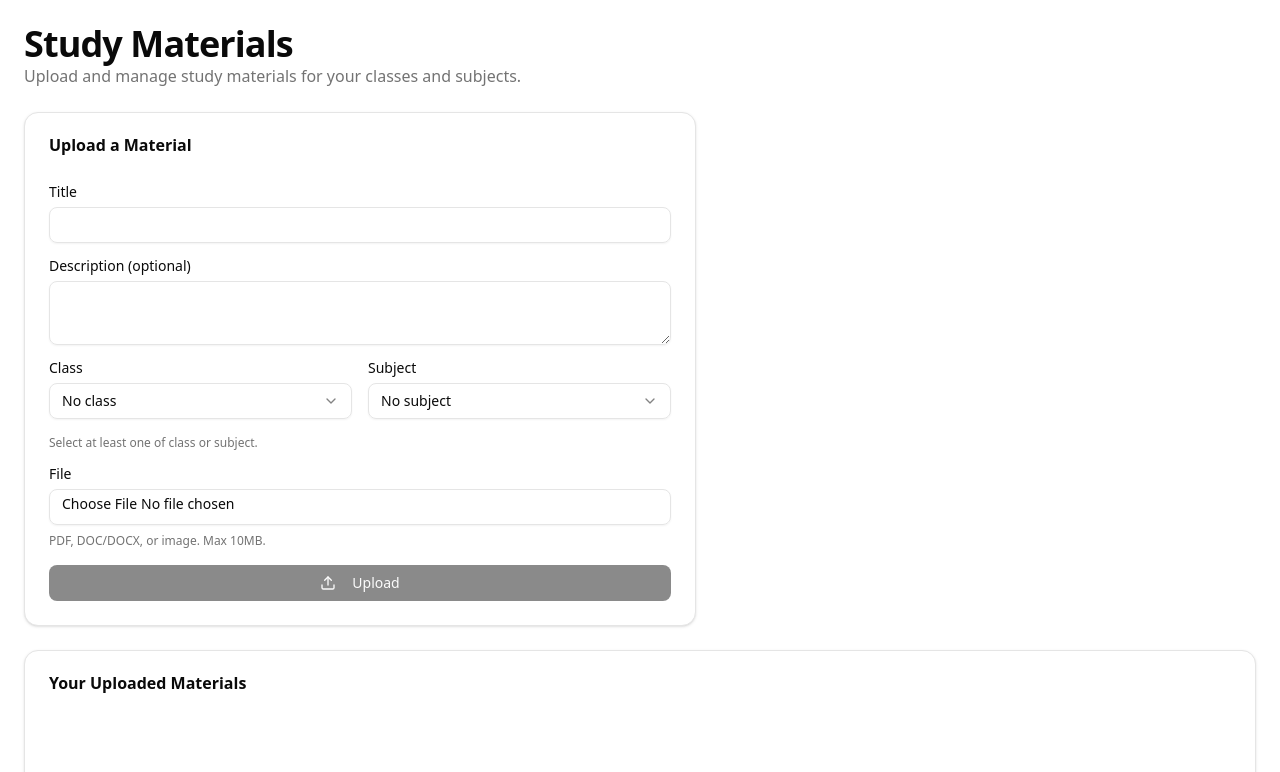
Test case: TeacherMaterialsPage — owned classes only (regression) › shows exactly the owned classes when there are zero subject assignments
The width and height of the screenshot is (1280, 772).
Click the dropdown labelled "class" at (89, 400), box [49, 383, 352, 419]
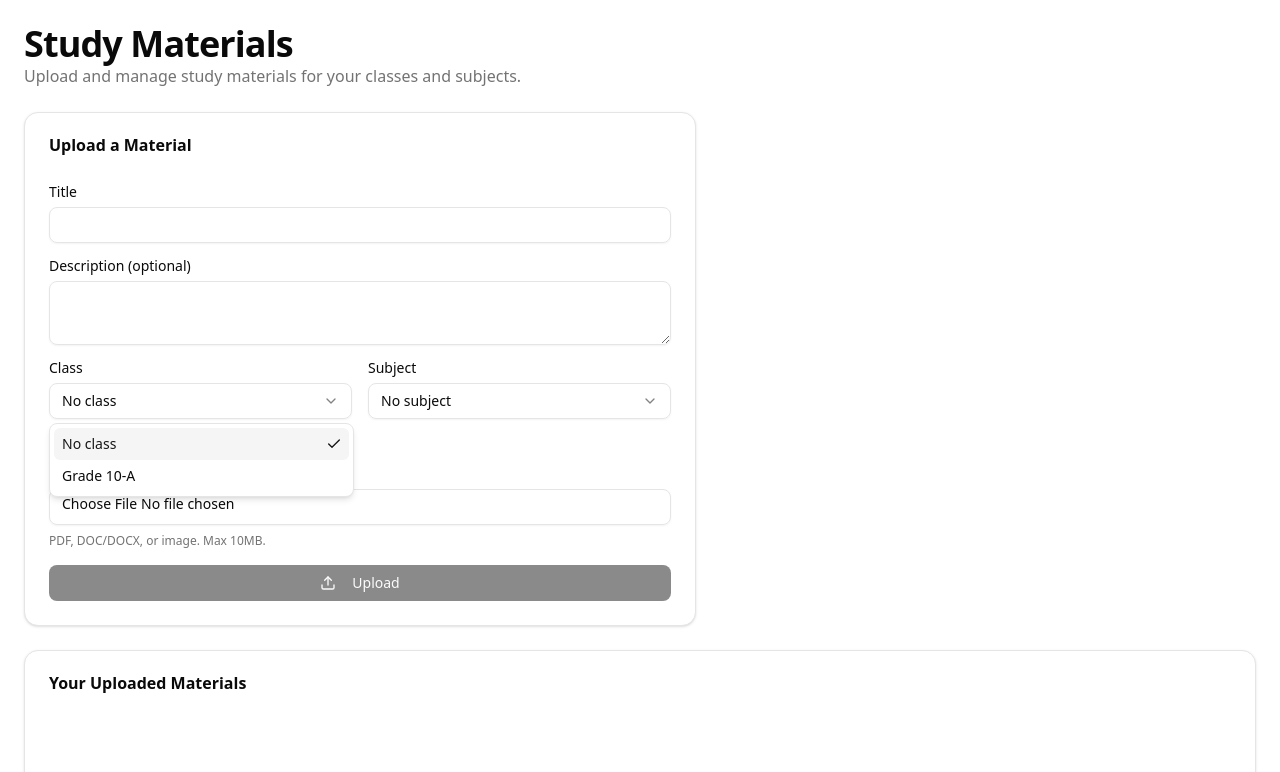
Result: the option "Grade 10-A" is shown at [62, 466, 135, 485]
Result: the number of options is 2 at [54, 428, 349, 460]; [62, 466, 135, 485]
